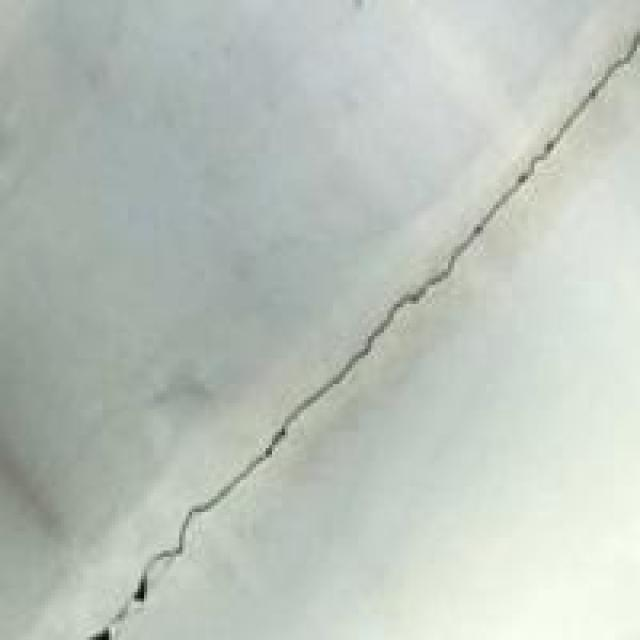Crack: (112, 0, 637, 637)
